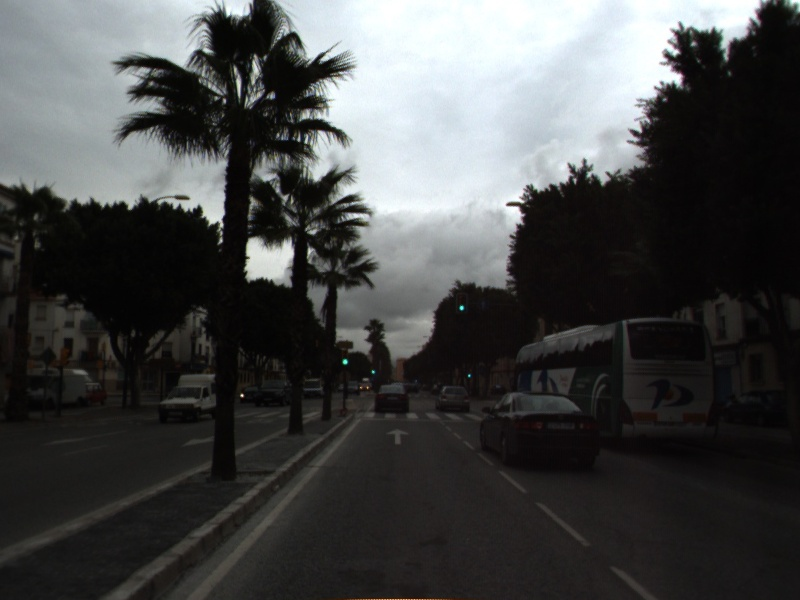STRAIGHT: (384, 426, 411, 447)
